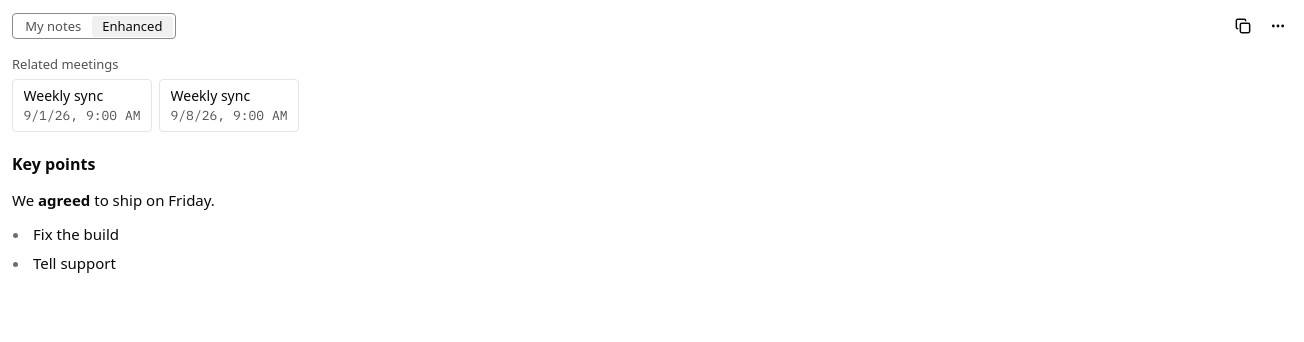
SummaryTab related meetings › B21: a related meeting that no longer exists shows the missing-meeting message and does not navigate
Click the button "Weekly sync 9/1/26, 9:00 AM" at (82, 106), box [12,79,152,132]
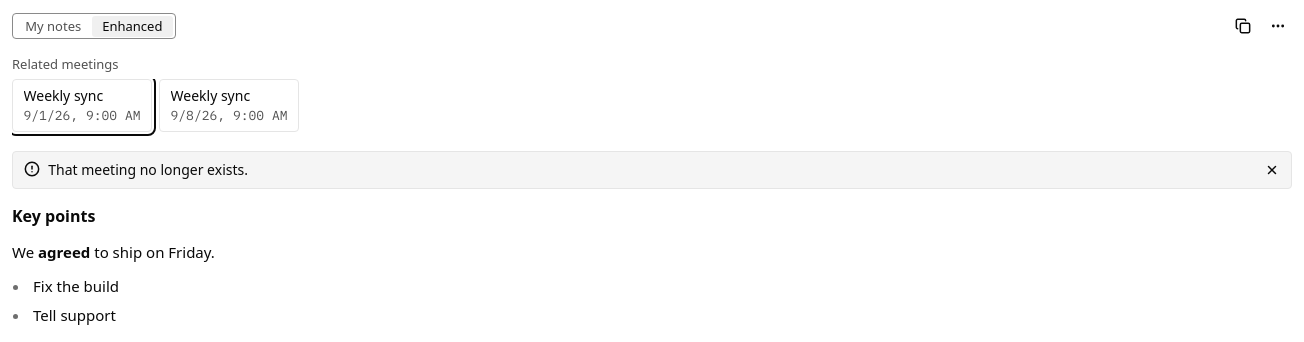
Result: the text "That meeting no longer exists." is shown at [48,160,248,179]
